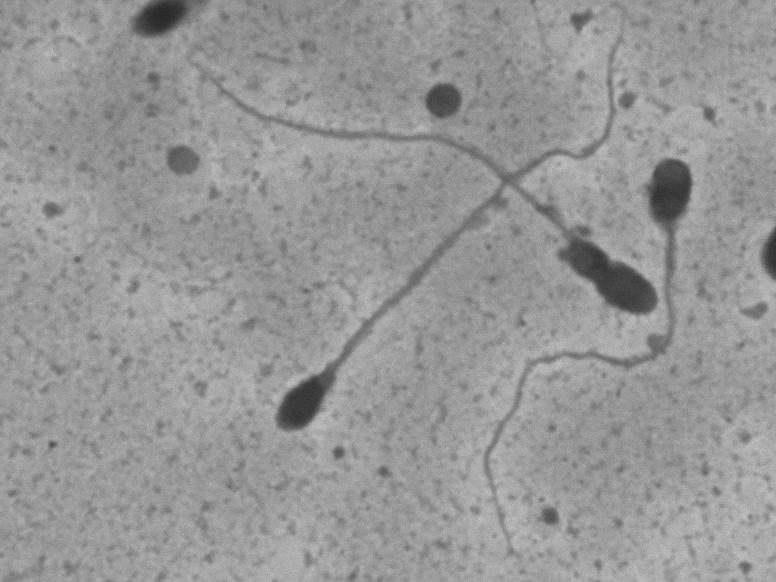Abnormal: (452, 142, 709, 575), (236, 243, 408, 490), (514, 183, 668, 339)
